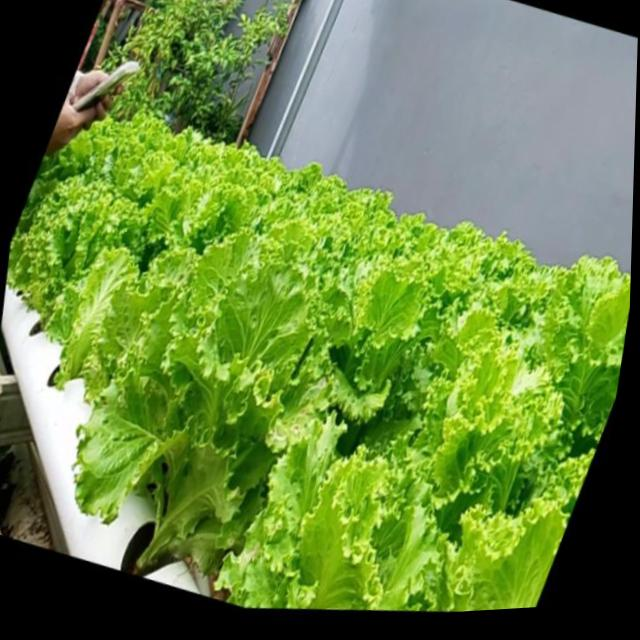Mature: (8, 120, 631, 611), (101, 270, 328, 571), (9, 160, 171, 381)
